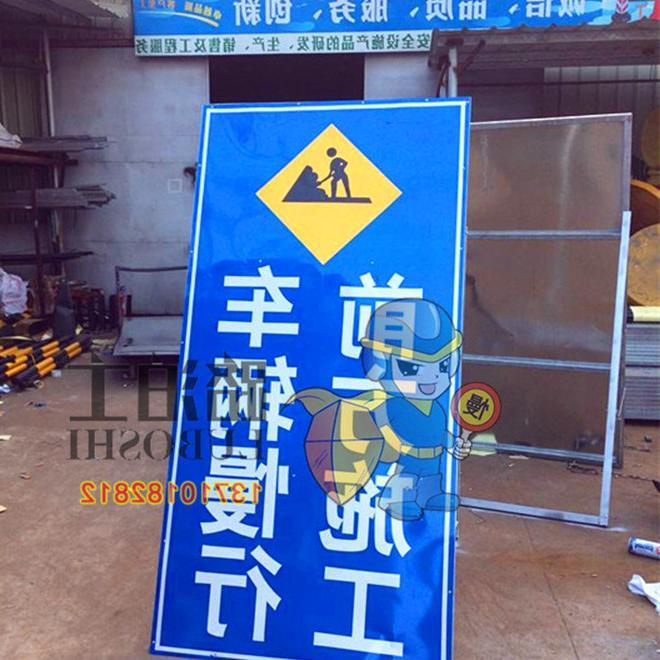sign: (155, 94, 467, 651)
